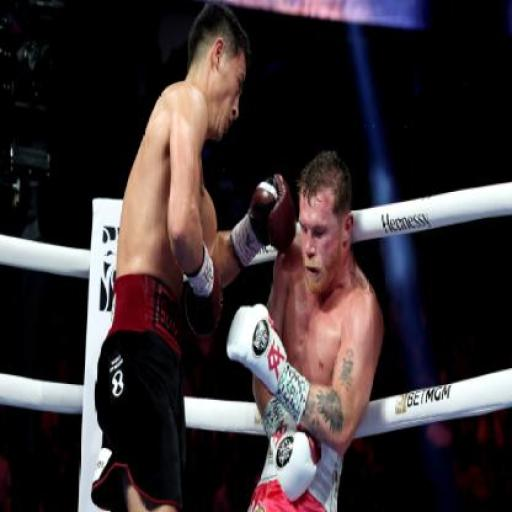Fighting: (90, 2, 386, 512)
